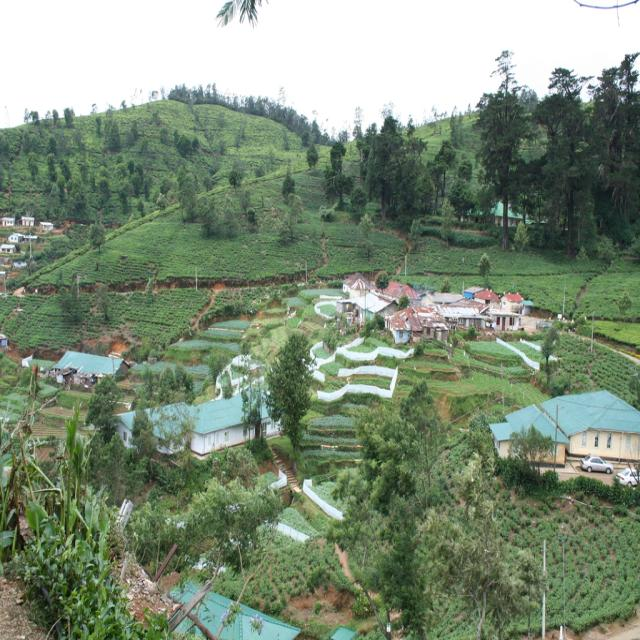car: (580, 455, 612, 472)
